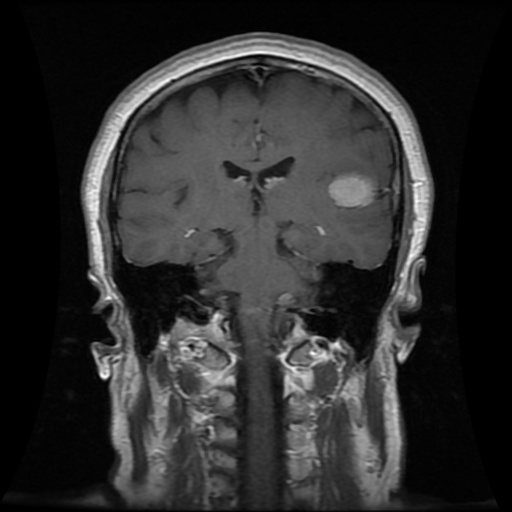meningioma: (327, 174, 375, 207)
